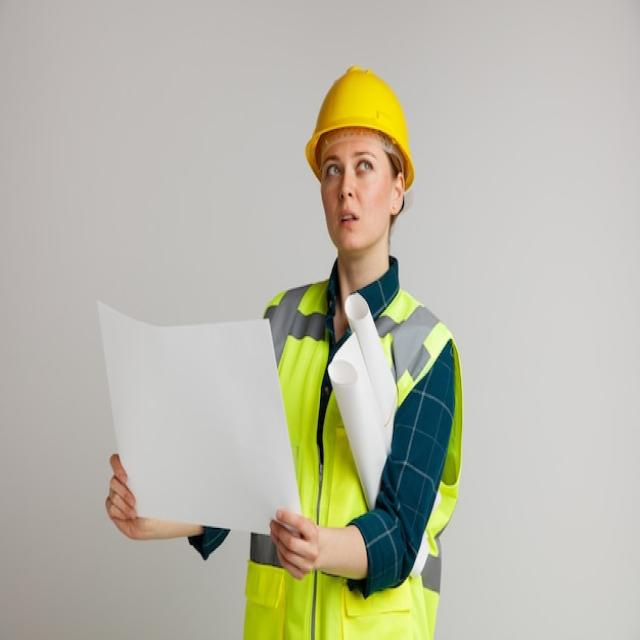helmet: (294, 53, 424, 165)
no-goggles: (310, 133, 408, 194)
vest: (268, 286, 462, 639)
